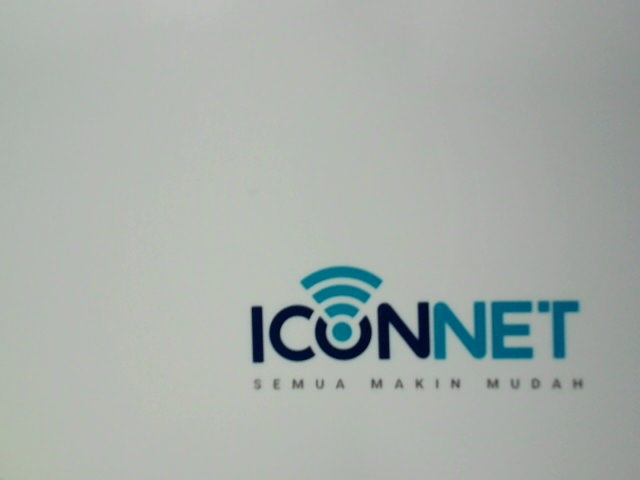BM_ICONNET: (225, 254, 618, 401)
